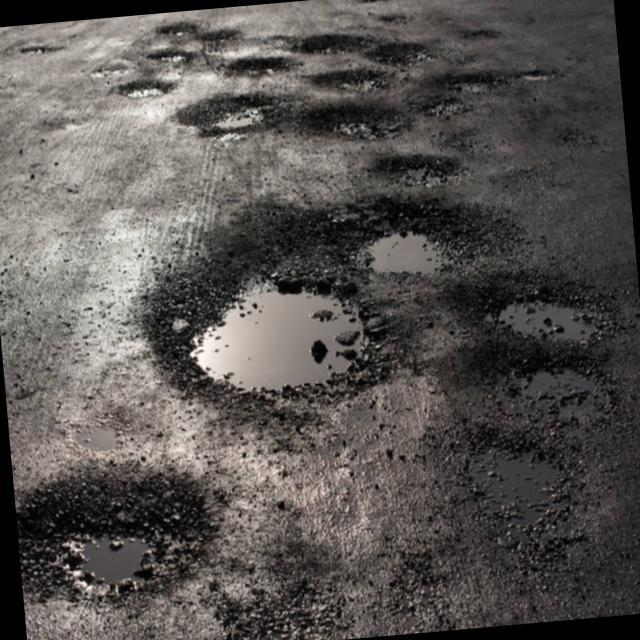Pothole: (136, 254, 426, 441), (11, 446, 267, 640), (453, 414, 621, 546), (469, 330, 640, 445), (472, 277, 622, 393), (334, 222, 484, 293), (346, 144, 473, 202), (296, 96, 418, 154), (189, 98, 292, 146), (206, 40, 295, 80), (444, 68, 532, 102), (414, 92, 488, 132), (292, 26, 379, 56), (300, 68, 383, 99), (373, 40, 432, 77), (126, 49, 200, 73), (172, 28, 255, 48), (117, 81, 175, 108), (155, 20, 215, 44)
